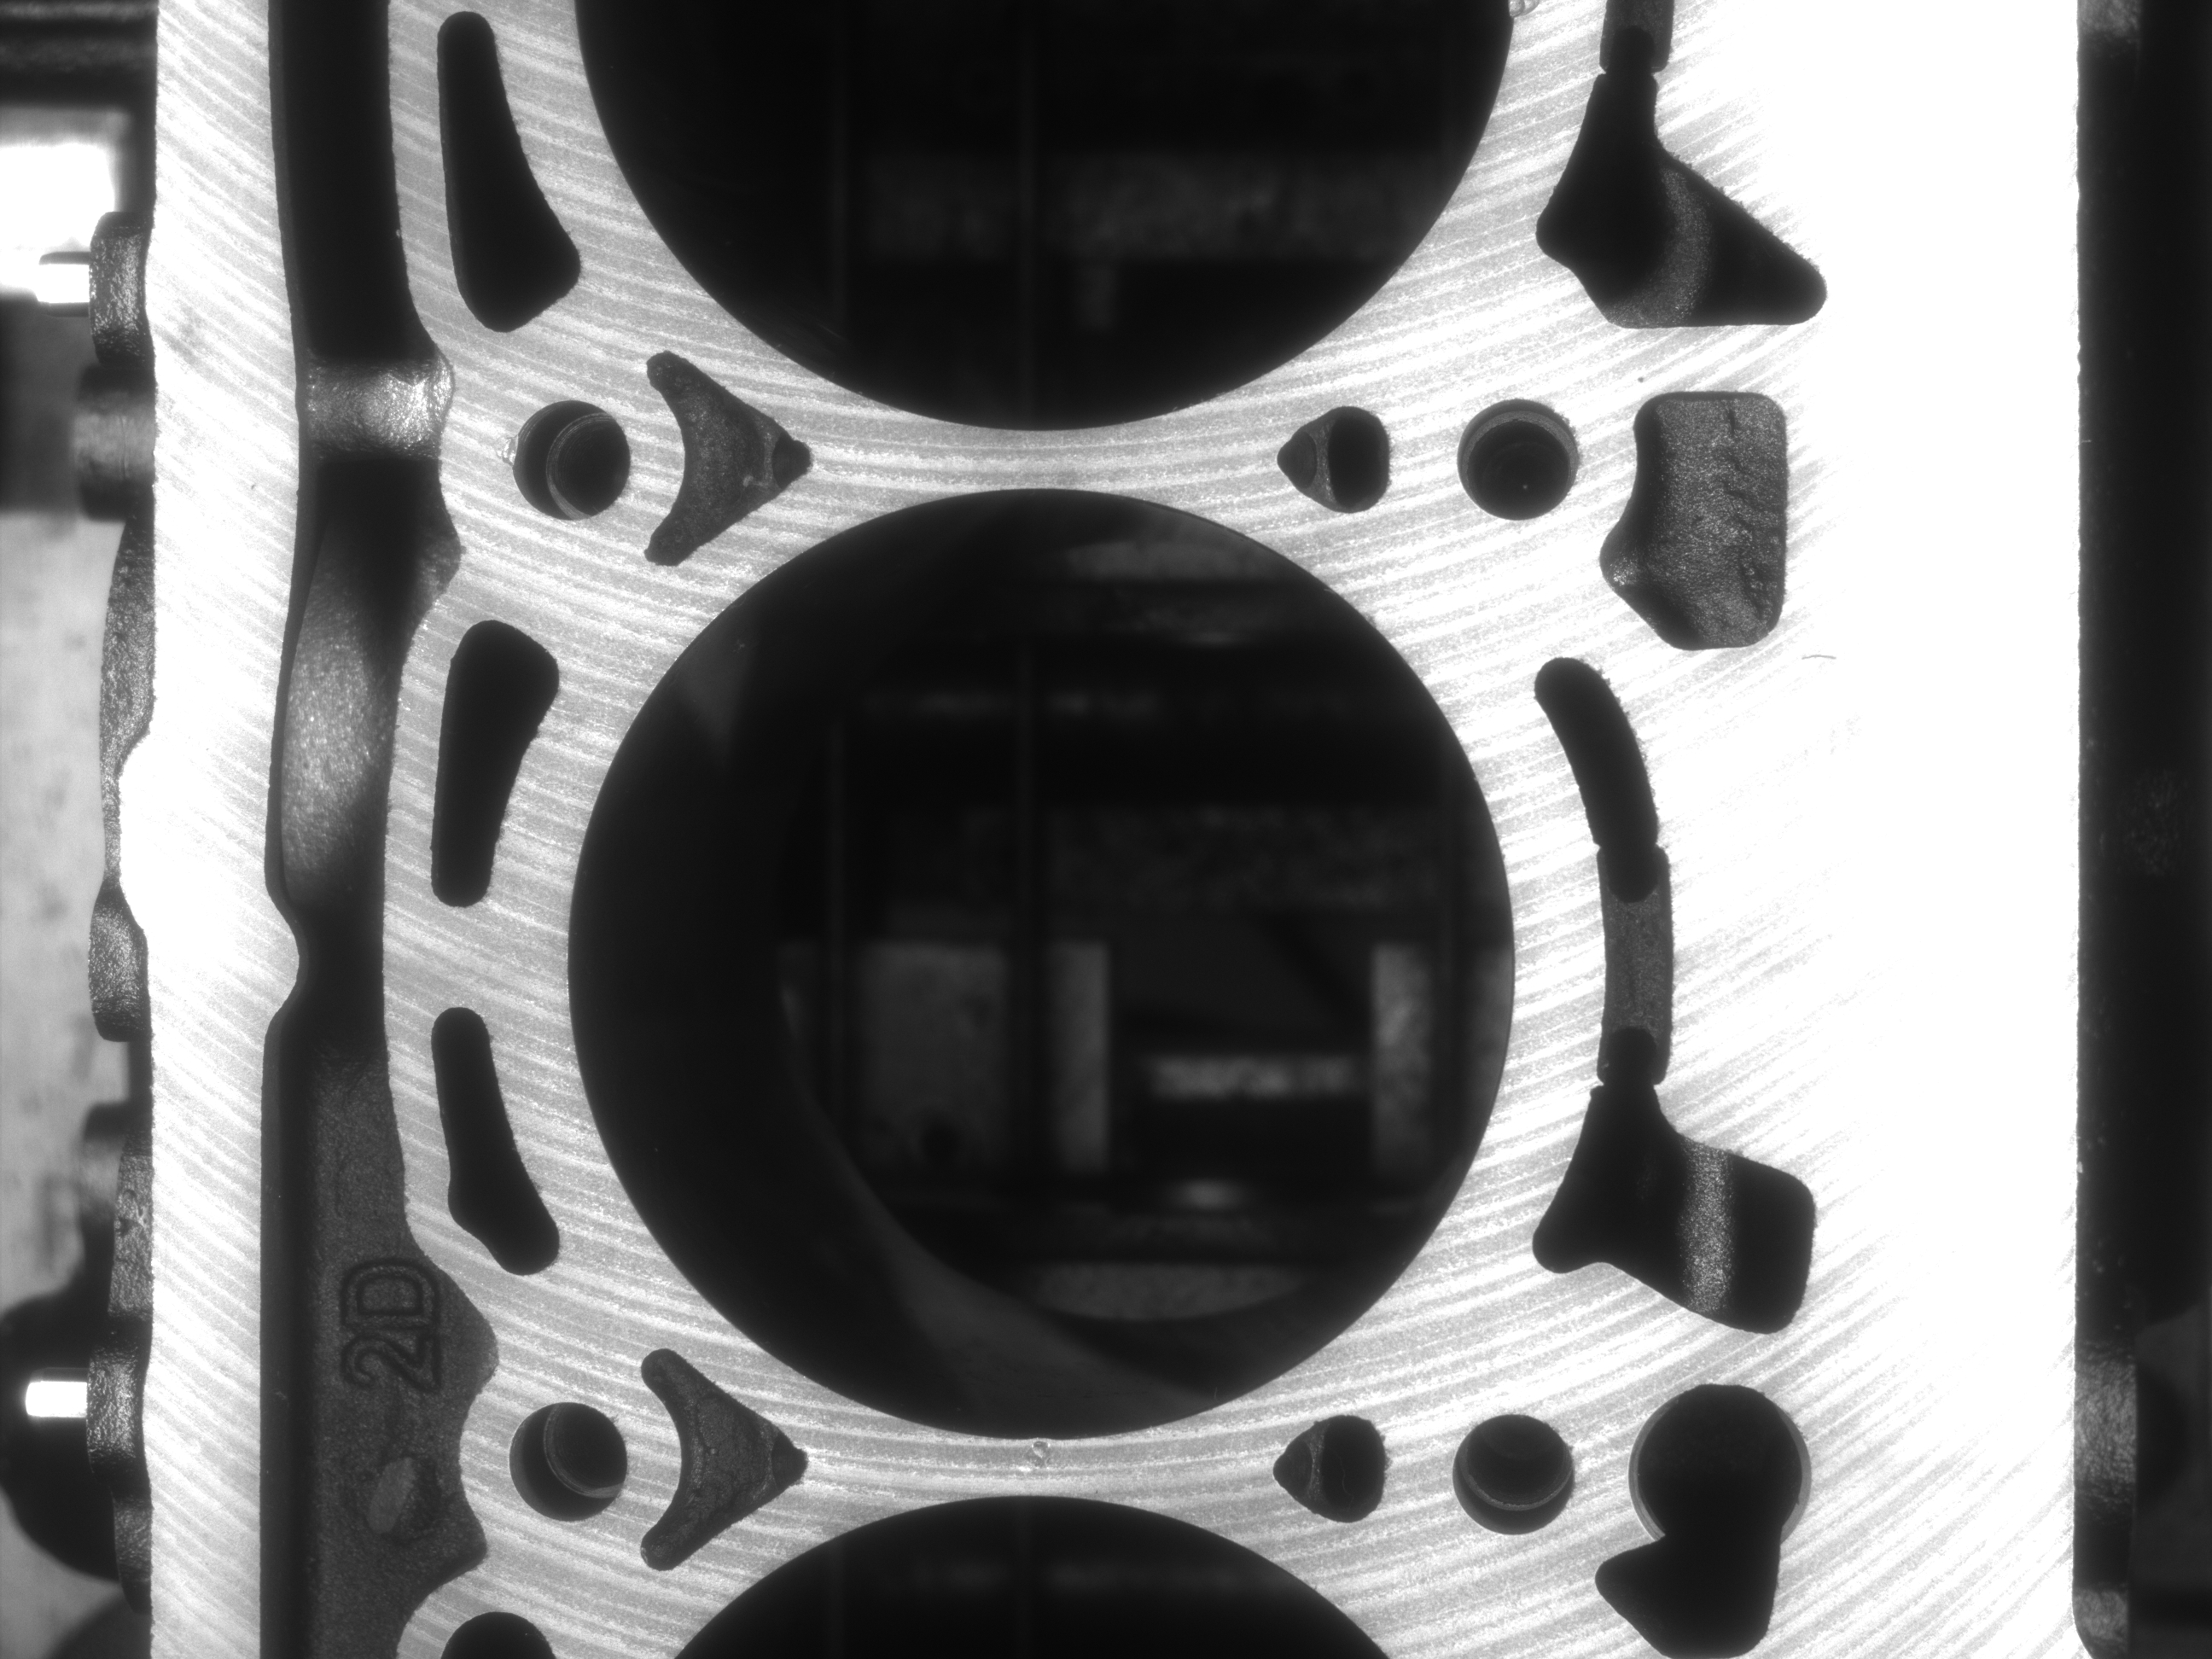crackle: (1792, 633, 1853, 673)
sandhole: (1008, 1432, 1062, 1481)
